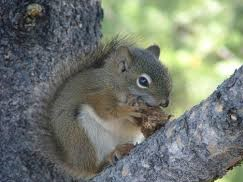squirrel: (43, 43, 173, 162)
